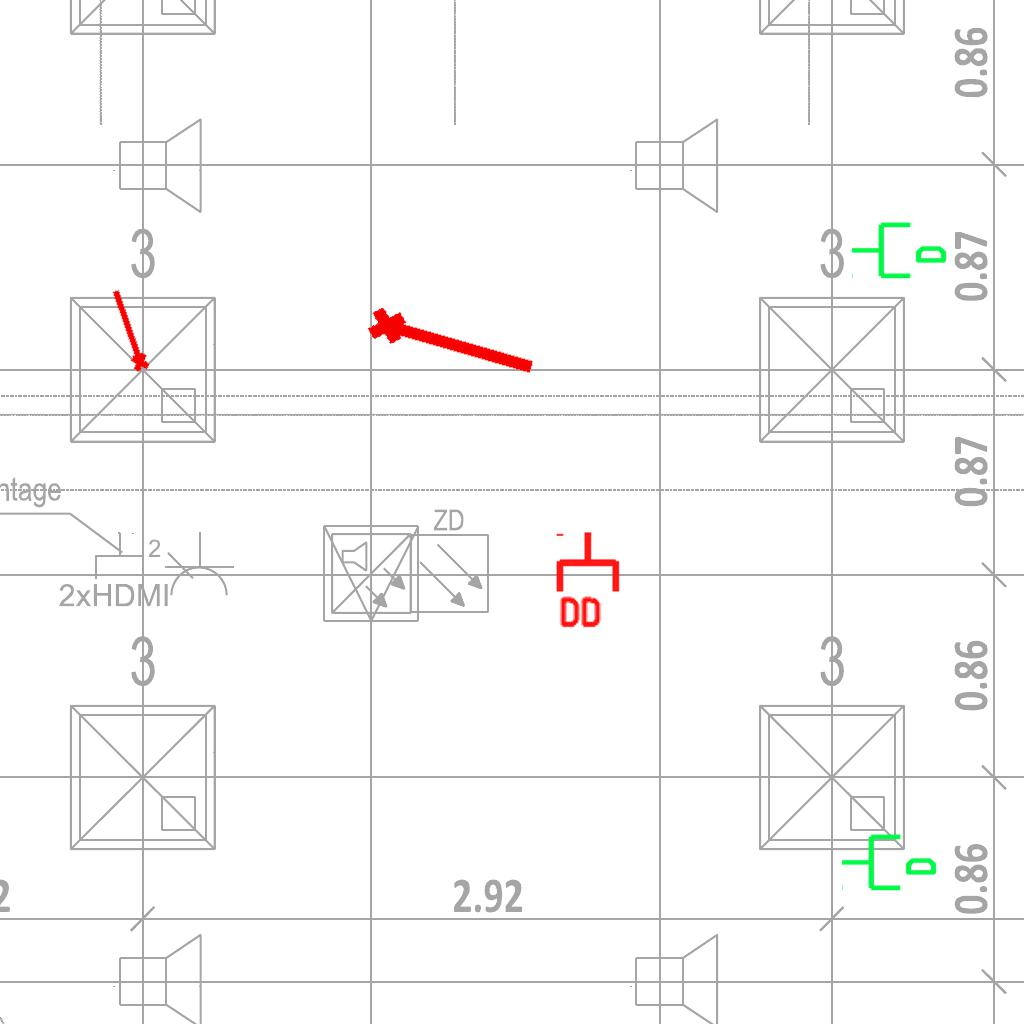ASR_Ansaugoeffnung: (362, 295, 544, 389), (102, 285, 154, 376)
Datenanschluss_einfach: (849, 214, 949, 283), (839, 826, 939, 895)
Datenanschluss_zweifach: (555, 529, 624, 632)
